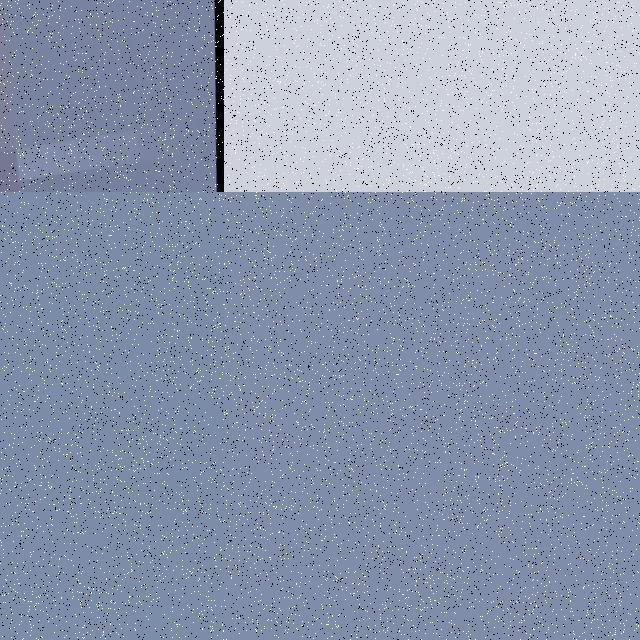drone: (0, 0, 224, 192)
